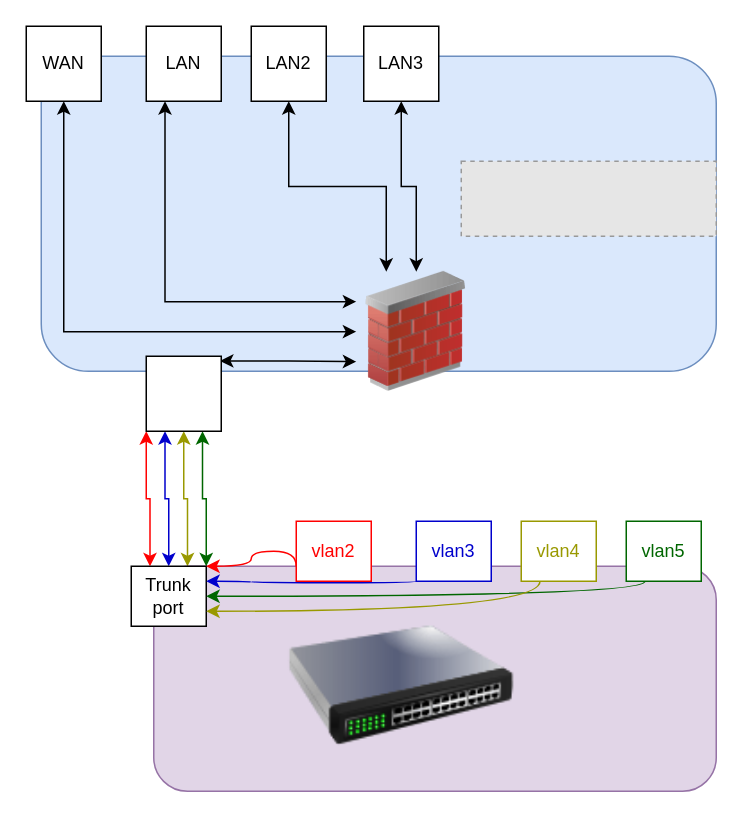
This 743x818 diagram has some shape labels left out. Grey dashed boxes stand in for pictures. Here are the shapes that lost their labels. From the top down, the centre of each, then its label:
pixel 183 393: LAN6 (vLAN trunk)
pixel 400 686: Managed Switch
